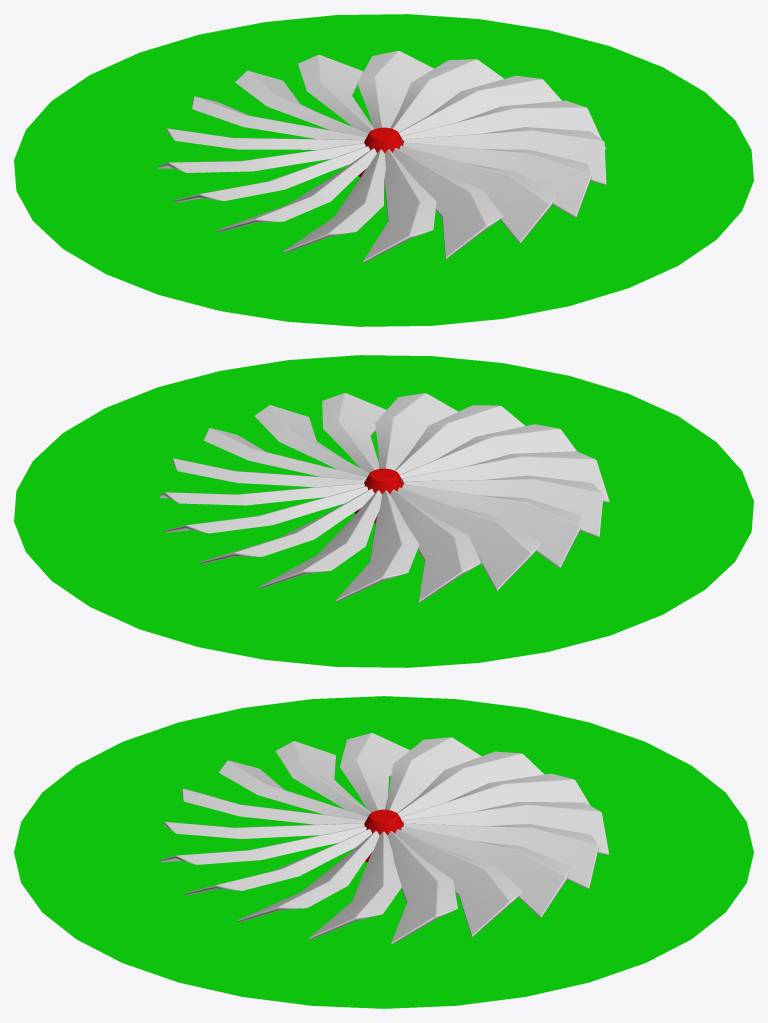
Rendered from SM_FanBladeHigh.fbx.
3 renders of one model, top to bottom at view 1: azimuth 30°, elevation 25°; view 2: azimuth 150°, elevation 25°; view 3: azimuth 270°, elevation 25°, orthographic.
Parts seen in each view (by area): view 1: FanBase, FanBlade; view 2: FanBase, FanBlade; view 3: FanBase, FanBlade.
Boxes of the visible parts, <box> form: FanBase: <box>14,14,753,326</box>; FanBlade: <box>158,51,606,262</box>; FanBase: <box>14,355,753,667</box>; FanBlade: <box>159,393,609,602</box>; FanBase: <box>14,696,753,1008</box>; FanBlade: <box>160,733,609,944</box>.
Bounding box in the file's own units: 51.21 × 51.21 × 2.85.
